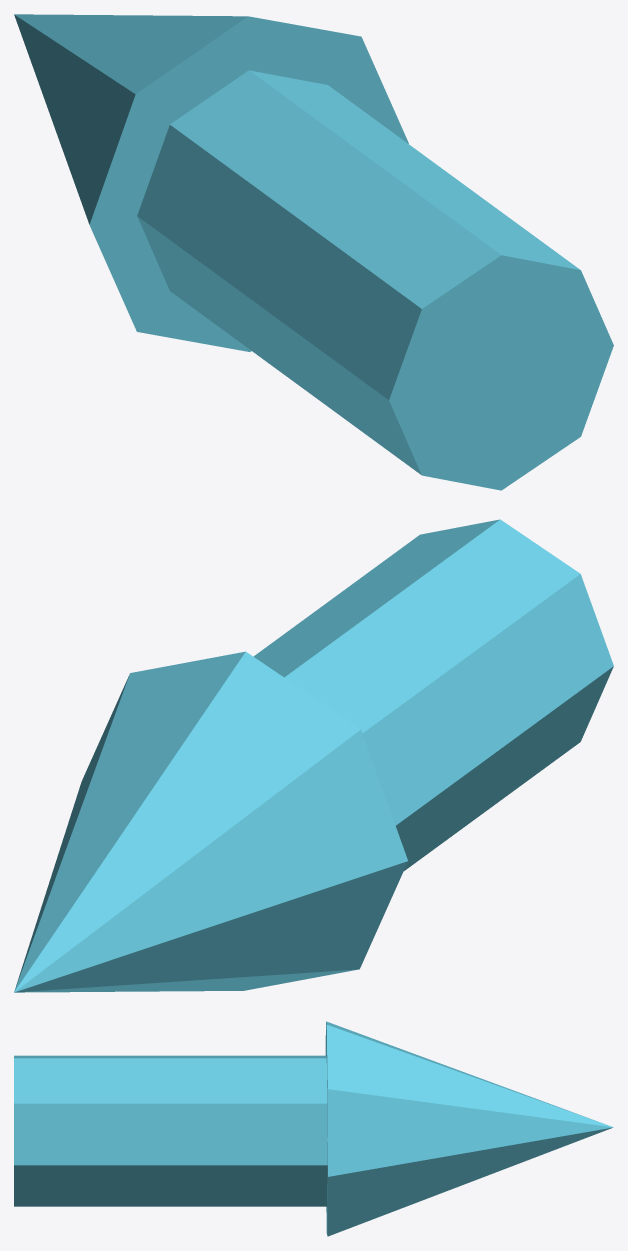
3 views of the same model, one above another, from view 1: azimuth 30°, elevation 25°; view 2: azimuth 150°, elevation 25°; view 3: azimuth 270°, elevation 25° (orthographic). The views are drawn at different scales.
Parts seen in each view (by area): view 1: DunGenNode; view 2: DunGenNode; view 3: DunGenNode.
Boxes of the visible parts, left/top/right/bottom form: DunGenNode: left=14, top=14, right=613, bottom=490; DunGenNode: left=14, top=519, right=613, bottom=992; DunGenNode: left=14, top=1021, right=613, bottom=1236.
Bounding box in the file's own units: 40 × 40 × 104.
